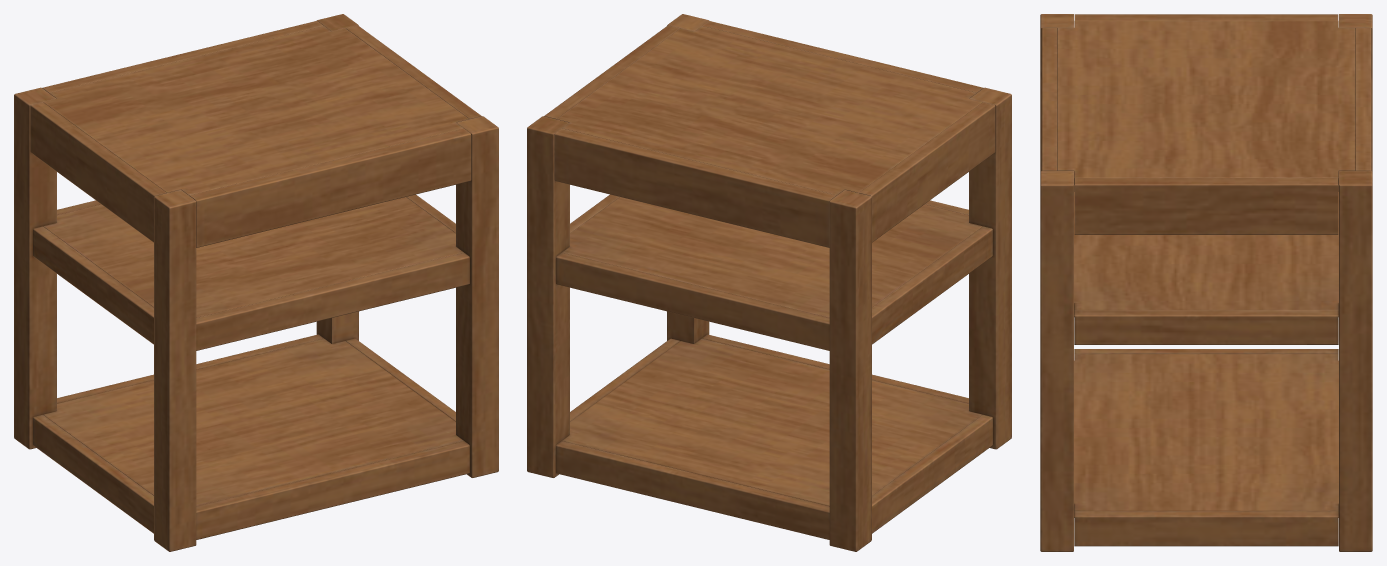
Rendered from side-table-lite.glb.
The picture shows the model from 3 angles, left to right: view 1: azimuth 30°, elevation 25°; view 2: azimuth 150°, elevation 25°; view 3: azimuth 270°, elevation 25°; orthographic projection. The views are drawn at different scales.
Visible parts, largest first — view 1: side_table_01; view 2: side_table_01; view 3: side_table_01.
Part boxes in pixels (left/top/right/bottom): side_table_01: left=14, top=14, right=498, bottom=551; side_table_01: left=527, top=14, right=1011, bottom=551; side_table_01: left=1040, top=14, right=1372, bottom=551.
Bounding box in the file's own units: 0.55 × 0.5507 × 0.45.
Materials: 1 (1 with a texture image).
